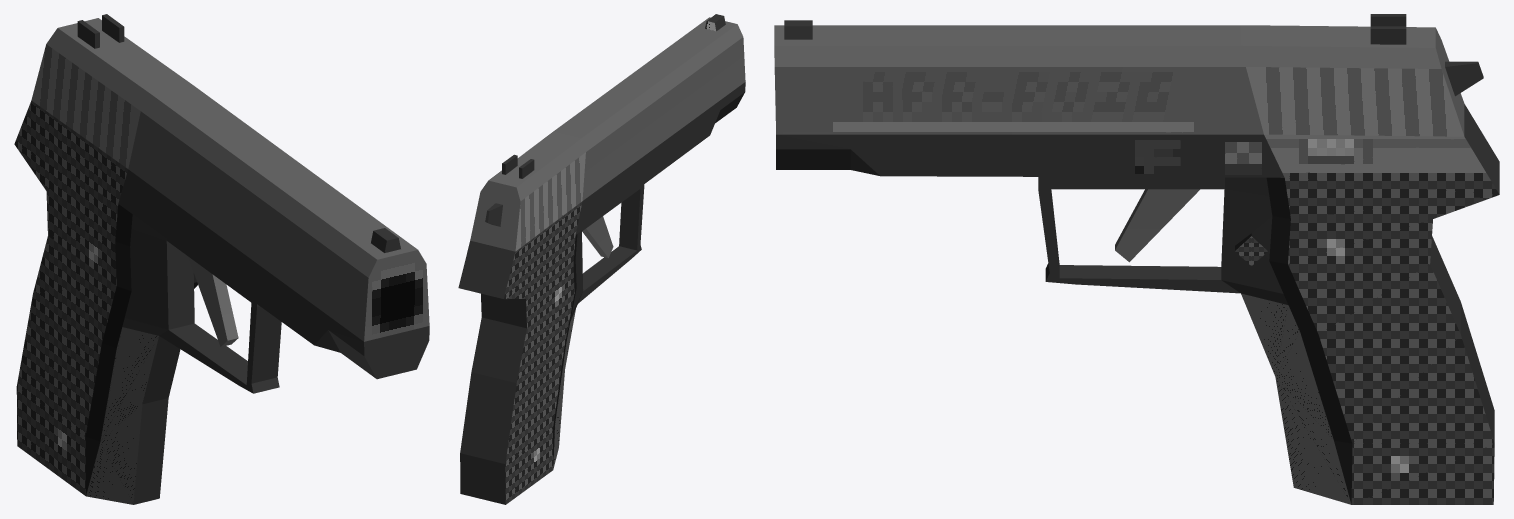
Rendered from Pistol.fbx.
The picture shows the model from 3 angles, left to right: view 1: azimuth 30°, elevation 25°; view 2: azimuth 150°, elevation 25°; view 3: azimuth 270°, elevation 25°; orthographic projection. The views are drawn at different scales.
Visible parts, largest first — view 1: Plane; view 2: Plane; view 3: Plane.
Part boxes in pixels (<box>): Plane: <box>14,14,429,504</box>; Plane: <box>458,14,745,504</box>; Plane: <box>774,14,1499,504</box>.
Size of the model in its own units: 43.03 by 283 by 399.
Materials: 1 (1 with a texture image).
